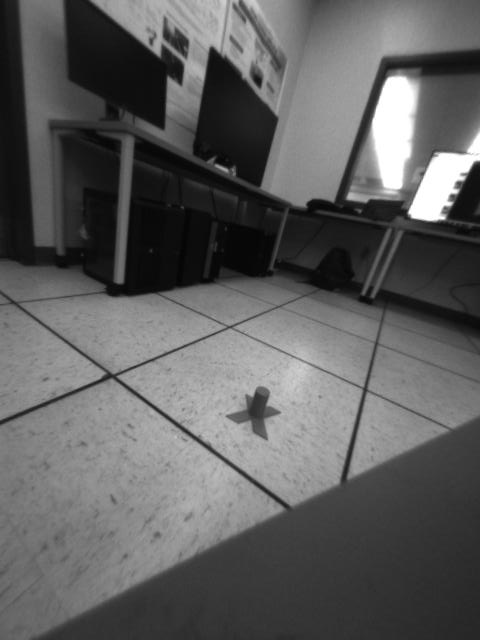X: (225, 387, 281, 441)
